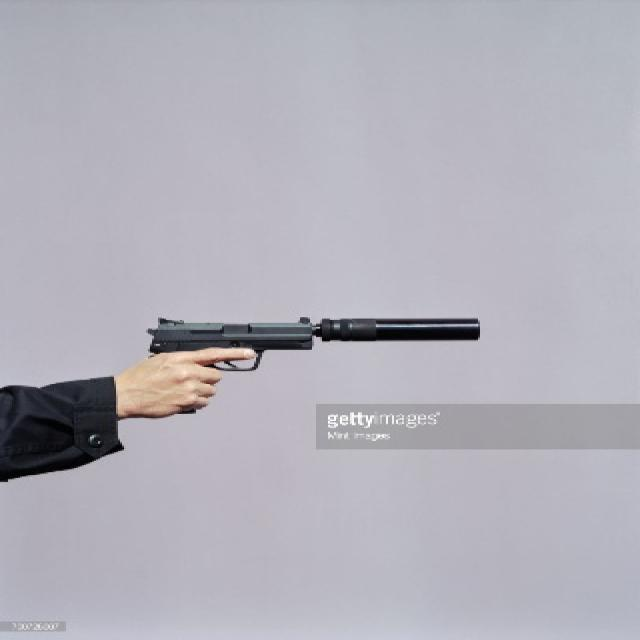handgun: (145, 314, 483, 406)
